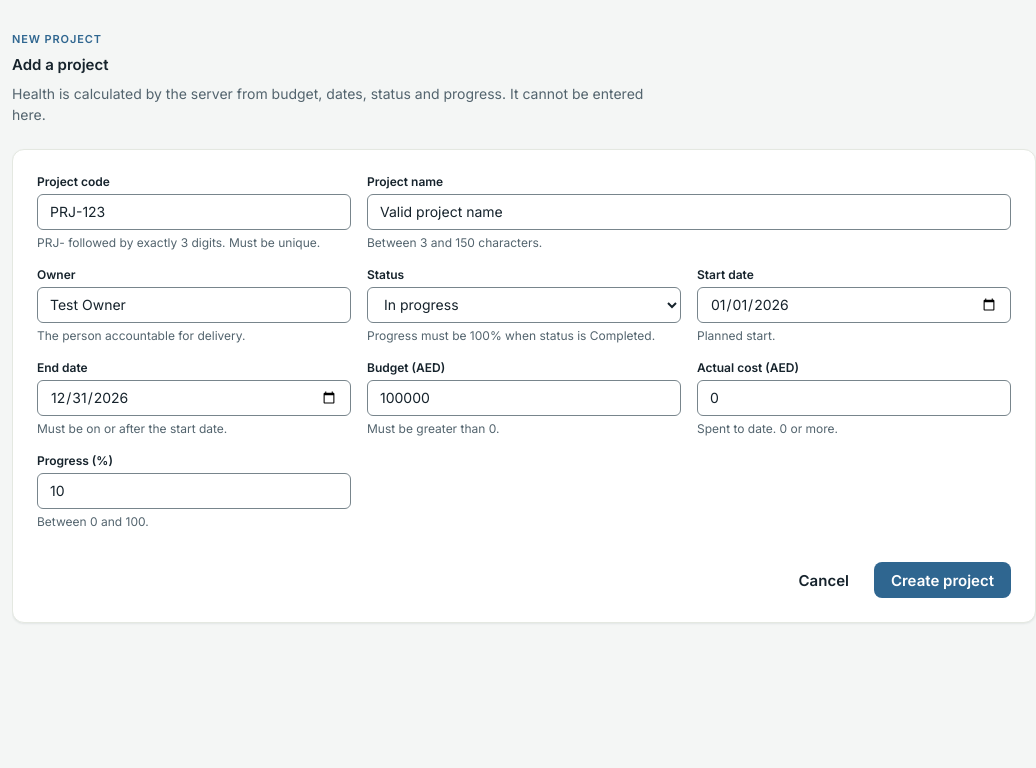
Test: ProjectFormComponent › shows a server 400 next to the field named in the errors dictionary
What coordinates should you click on to do the following:
click the submit button
I would click on:
 (942, 580)
Its box is top-left (874, 562), bottom-right (1011, 598).
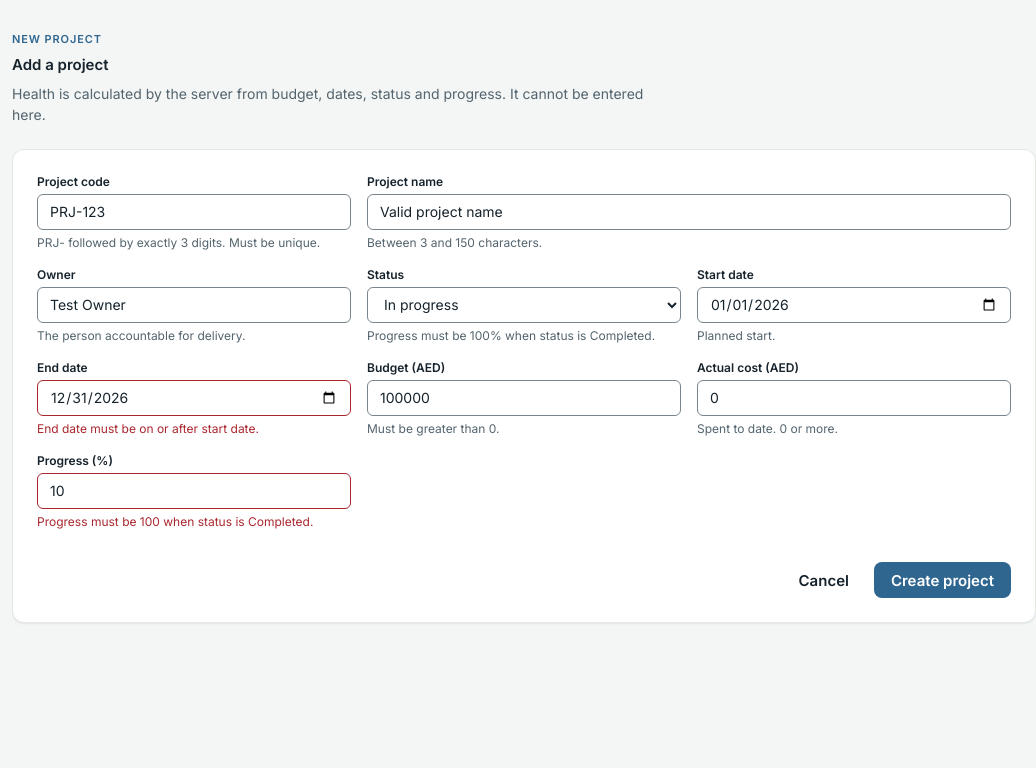
Now the text with id "endDate-message" reads "End date must be on or after start date.", box top-left (37, 421), bottom-right (259, 436)
Now the text "Progress must be 100 when status is Completed." is shown, box top-left (37, 513), bottom-right (351, 530)
